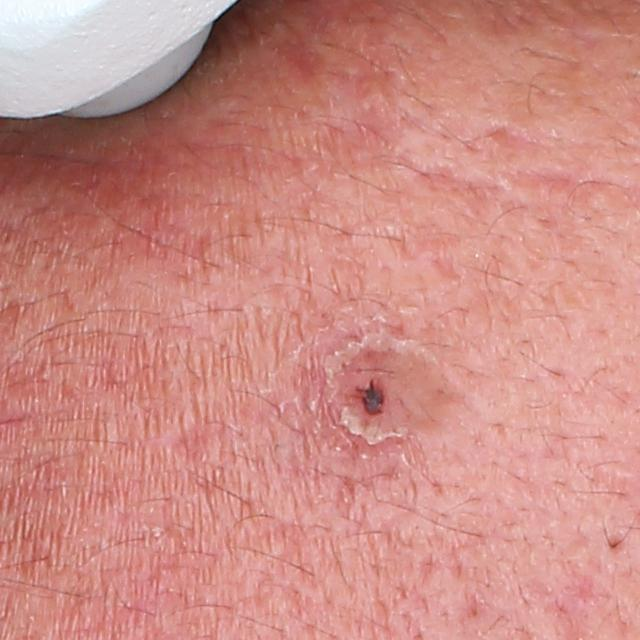atrophic_scar: (497, 163, 606, 197), (162, 418, 213, 463), (478, 121, 535, 154)
